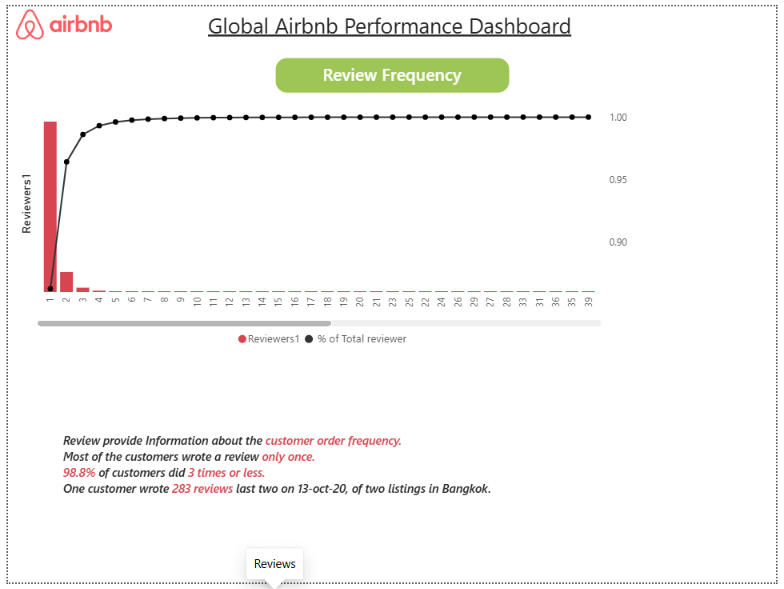

This screenshot's page, from the dashboard's own definition file:
{"tool":"powerbi","page":{"name":"Reviews","canvas":[960,720],"ordinal":3},"visuals":[{"type":"textbox","box":[244.6,0,470.8,84.4],"z":0},{"type":"image","box":[10.5,4.2,119.8,37.8],"z":1000},{"type":"textbox","box":[333.3,63.3,293.3,45],"z":2000},{"type":"lineStackedColumnComboChart","fields":{"Y":["Reviews.Reviewers1"],"Category":["Reviews.Reviews per Reviewer"],"Y2":["Reviews.Cumulative % review frequency1"]},"box":[10,121.7,770,313.3],"z":3000},{"type":"textbox","box":[63.8,527.5,832.5,122.5],"z":4000},{"type":"shape","box":[595.6,540,47.8,50],"z":9000}]}

Visuals, with their boxes in screenshot pixels (x1, y1, x2, y2), scaled from the page's 960x720 canvas onto the 784x589 screenshot:
textbox: <region>200, 0, 584, 69</region>
image: <region>9, 3, 106, 34</region>
textbox: <region>272, 52, 512, 89</region>
lineStackedColumnComboChart - Reviews.Reviewers1 x Reviews.Reviews per Reviewer: <region>8, 100, 637, 356</region>
textbox: <region>52, 432, 732, 532</region>
shape: <region>486, 442, 525, 483</region>
